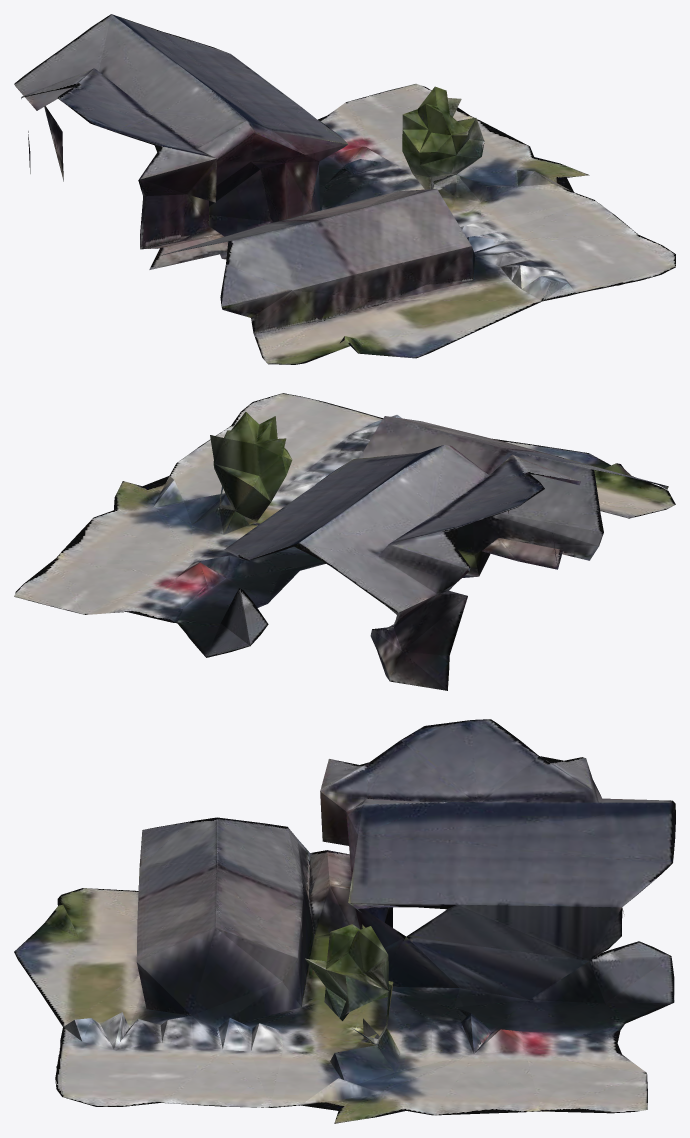
3 renders of one model, top to bottom at view 1: azimuth 30°, elevation 25°; view 2: azimuth 150°, elevation 25°; view 3: azimuth 270°, elevation 25°, orthographic. The views are drawn at different scales.
Bounding box in the file's own units: 48.75 × 14.62 × 54.37.
Materials: 1 (1 with a texture image).
